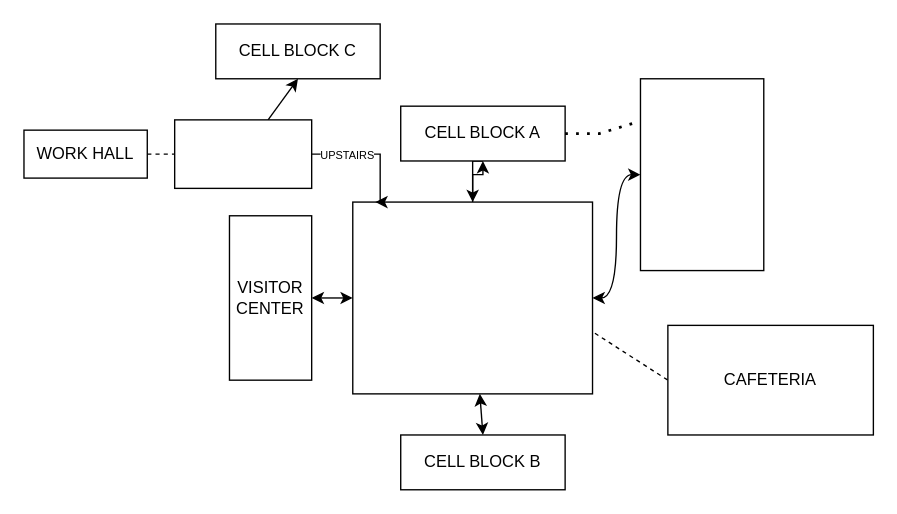
Image size: 897x514. Some labels were removed from this diagram. The box of each missing label's shape, as (x1, y1, x2, y2) in pixels:
COURTYARD: (639, 77, 764, 271)
MAIN HALL: (351, 201, 593, 394)
MAIN HALL (LVL 2): (173, 119, 312, 188)
